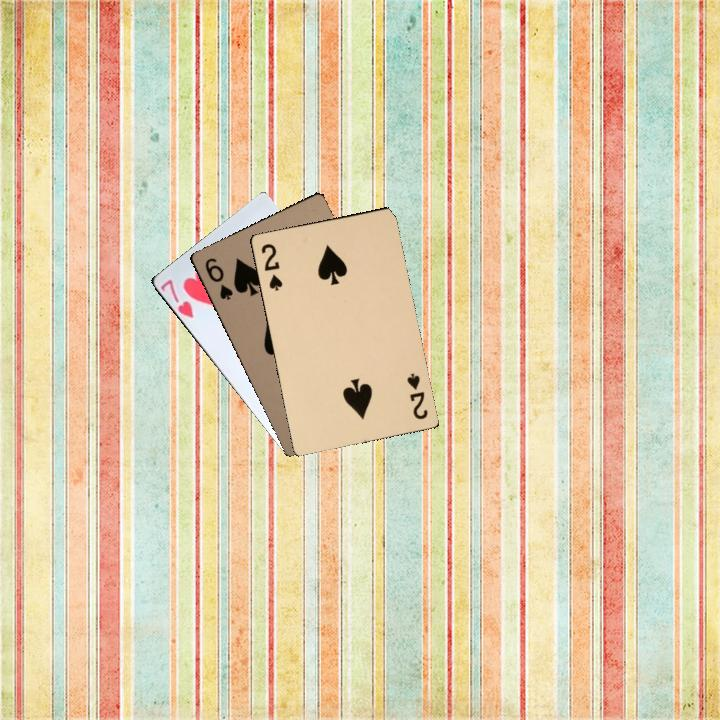2s: (257, 240, 285, 293), (403, 369, 430, 422)
6s: (201, 254, 236, 303)
7h: (156, 275, 196, 321)
